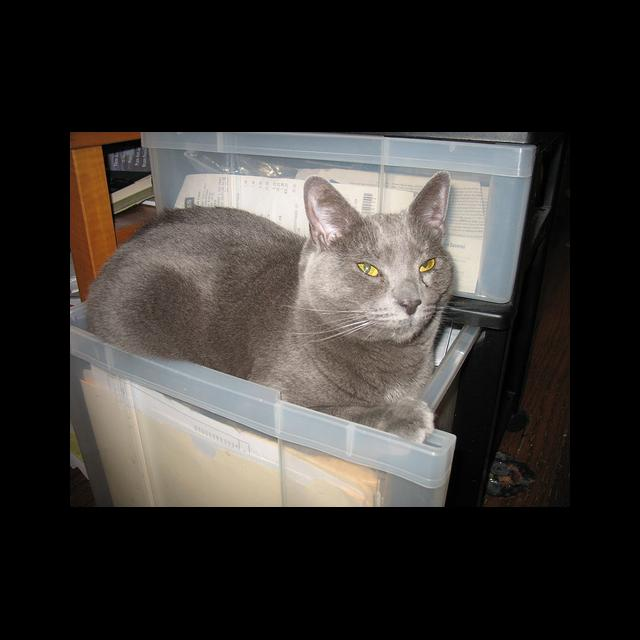animals: (312, 172, 445, 314)
